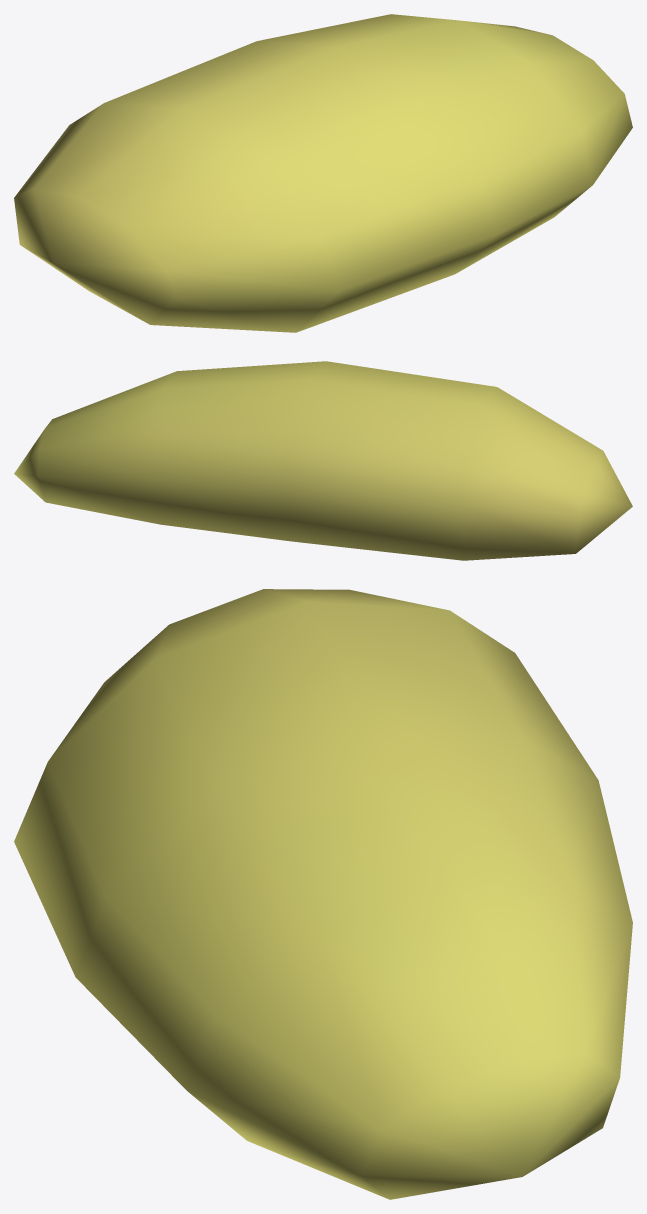
The model's file is PC_Woman_Eyebrow001_R.glb.
3 renders of one model, top to bottom at view 1: azimuth 30°, elevation 25°; view 2: azimuth 150°, elevation 25°; view 3: azimuth 270°, elevation 25°, orthographic. The views are drawn at different scales.
Visible parts, largest first — view 1: PC_Woman_Eyebrow001_R_mesh; view 2: PC_Woman_Eyebrow001_R_mesh; view 3: PC_Woman_Eyebrow001_R_mesh.
Boxes of the visible parts, box(x1,y1,x2,y2) form: PC_Woman_Eyebrow001_R_mesh: box(14, 14, 632, 332); PC_Woman_Eyebrow001_R_mesh: box(14, 361, 632, 560); PC_Woman_Eyebrow001_R_mesh: box(14, 589, 632, 1199).
Bounding box in the file's own units: 0.1478 × 0.0417 × 0.0826.
Materials: 1 (1 with a texture image).
